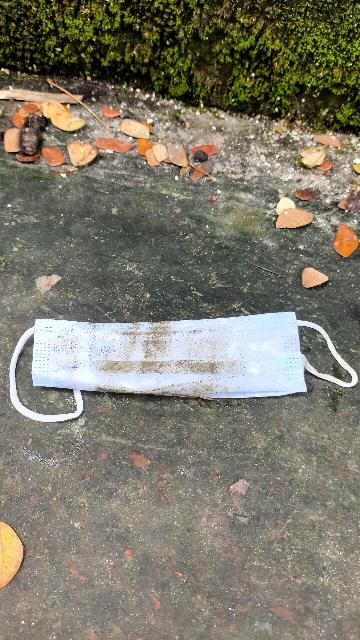mask: (6, 272, 359, 426)
